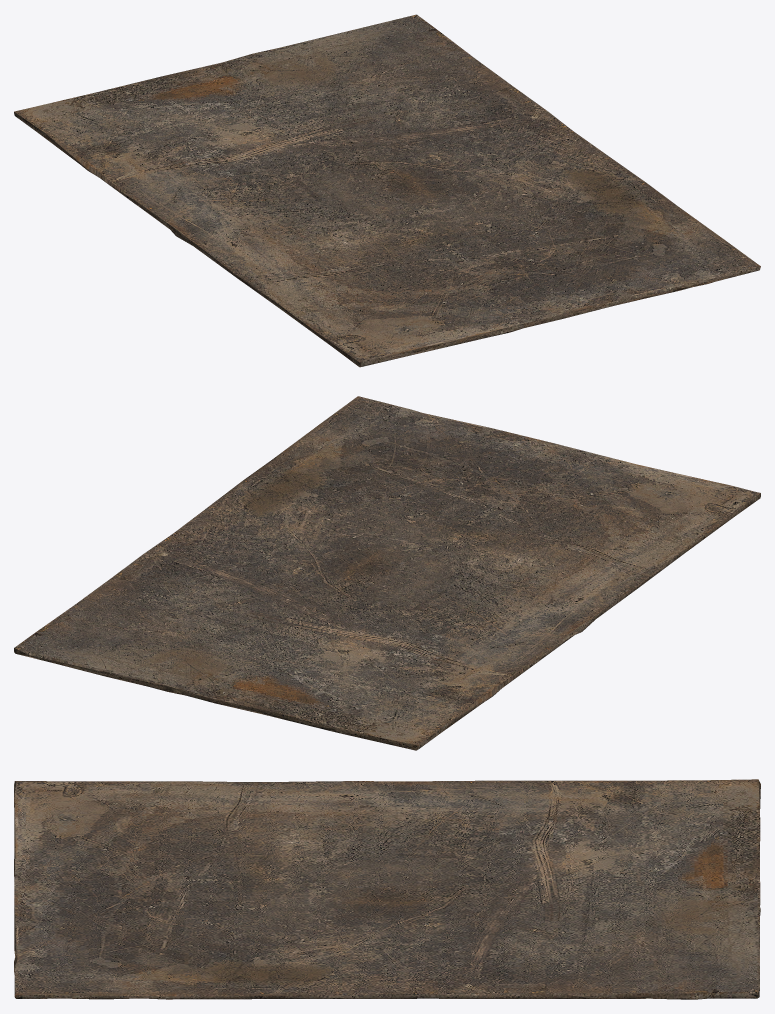
The model's file is SM_Urb_Roa_Sheet_Metal_Rusty_01.gltf.
The picture shows the model from 3 angles, top to bottom: view 1: azimuth 30°, elevation 25°; view 2: azimuth 150°, elevation 25°; view 3: azimuth 270°, elevation 25°; orthographic projection. The views are drawn at different scales.
Parts seen in each view (by area): view 1: SM_Urb_Roa_Sheet_Metal_Rusty_01; view 2: SM_Urb_Roa_Sheet_Metal_Rusty_01; view 3: SM_Urb_Roa_Sheet_Metal_Rusty_01.
Part boxes in pixels (x1=…): SM_Urb_Roa_Sheet_Metal_Rusty_01: x1=14, y1=14, x2=760, y2=367; SM_Urb_Roa_Sheet_Metal_Rusty_01: x1=14, y1=396, x2=760, y2=750; SM_Urb_Roa_Sheet_Metal_Rusty_01: x1=14, y1=779, x2=760, y2=999.
Size of the model in its own units: 2.49 by 0.0425 by 3.67.
Materials: 1 (1 with a texture image).
